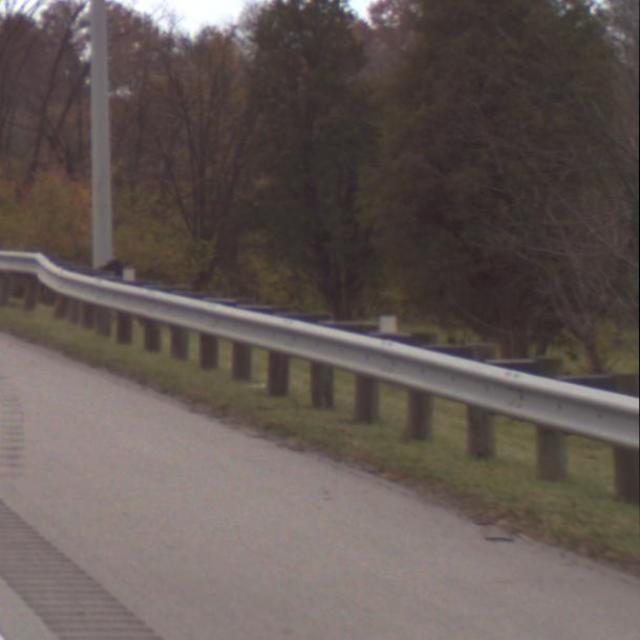Guard rail: (1, 243, 640, 515)
